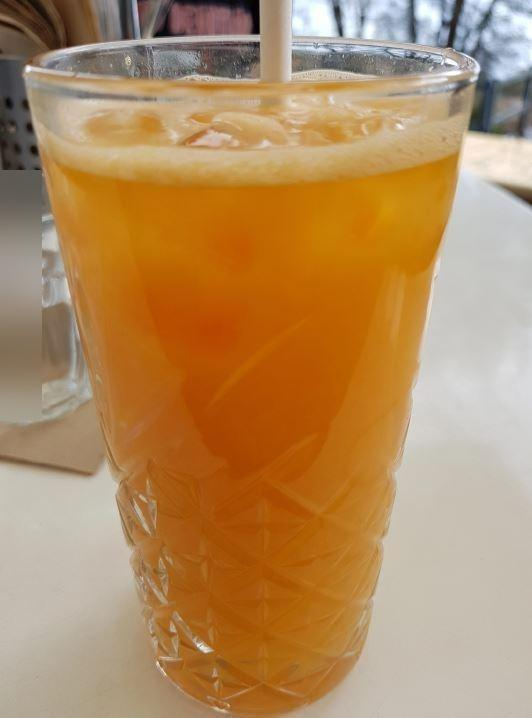glass-normal: (23, 29, 478, 714)
